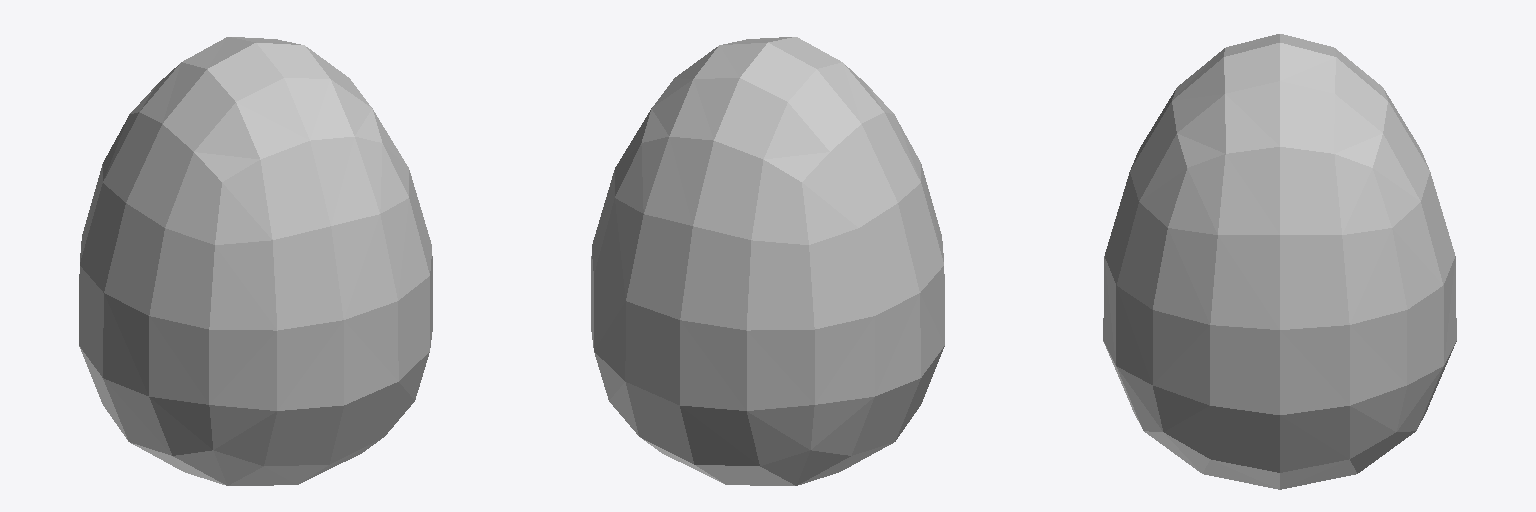
Rendered from Egg2.obj.
The picture shows the model from 3 angles: view 1: azimuth 30°, elevation 25°; view 2: azimuth 150°, elevation 25°; view 3: azimuth 270°, elevation 25°; orthographic projection.
Parts seen in each view (by area): view 1: Cube; view 2: Cube; view 3: Cube.
Boxes of the visible parts, <box> form: Cube: <box>79,37,432,485</box>; Cube: <box>591,37,944,485</box>; Cube: <box>1103,34,1456,489</box>.
Bounding box in the file's own units: 1.26 × 1.68 × 1.26.